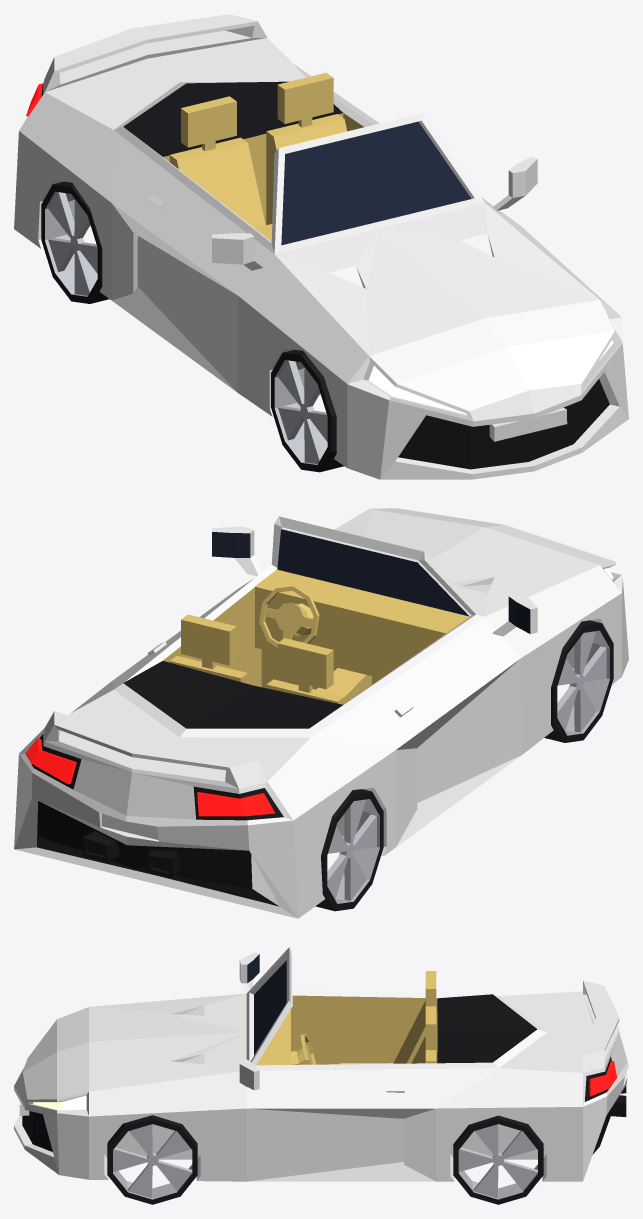
File: roadster.glb
The picture shows the model from 3 angles, top to bottom: view 1: azimuth 30°, elevation 25°; view 2: azimuth 150°, elevation 25°; view 3: azimuth 270°, elevation 25°; orthographic projection. The views are drawn at different scales.
Visible parts, largest first — view 1: body, wheel-front-right, wheel-back-right; view 2: body, wheel-front-right, wheel-back-right; view 3: body, wheel-front-left, wheel-back-left.
Boxes of the visible parts, <box> form: body: <box>14,14,628,479</box>; wheel-front-right: <box>271,349,343,472</box>; wheel-back-right: <box>41,181,109,303</box>; body: <box>14,508,628,918</box>; wheel-front-right: <box>544,620,613,742</box>; wheel-back-right: <box>315,789,383,911</box>; body: <box>14,947,628,1181</box>; wheel-front-left: <box>107,1115,197,1204</box>; wheel-back-left: <box>453,1115,543,1204</box>.
Bounding box in the file's own units: 1.9 × 1.33 × 4.12.
